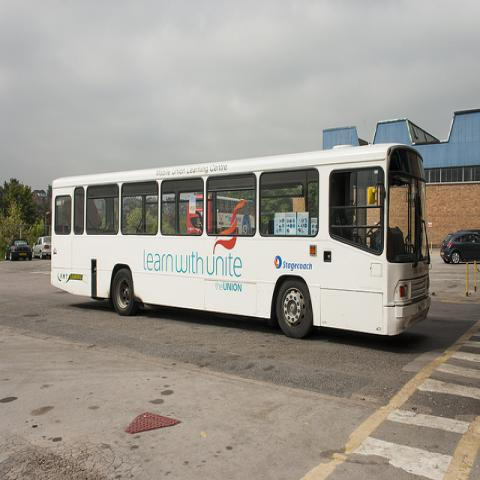bus: (50, 138, 434, 338)
car: (440, 230, 480, 266), (5, 239, 33, 260), (32, 236, 51, 259)
